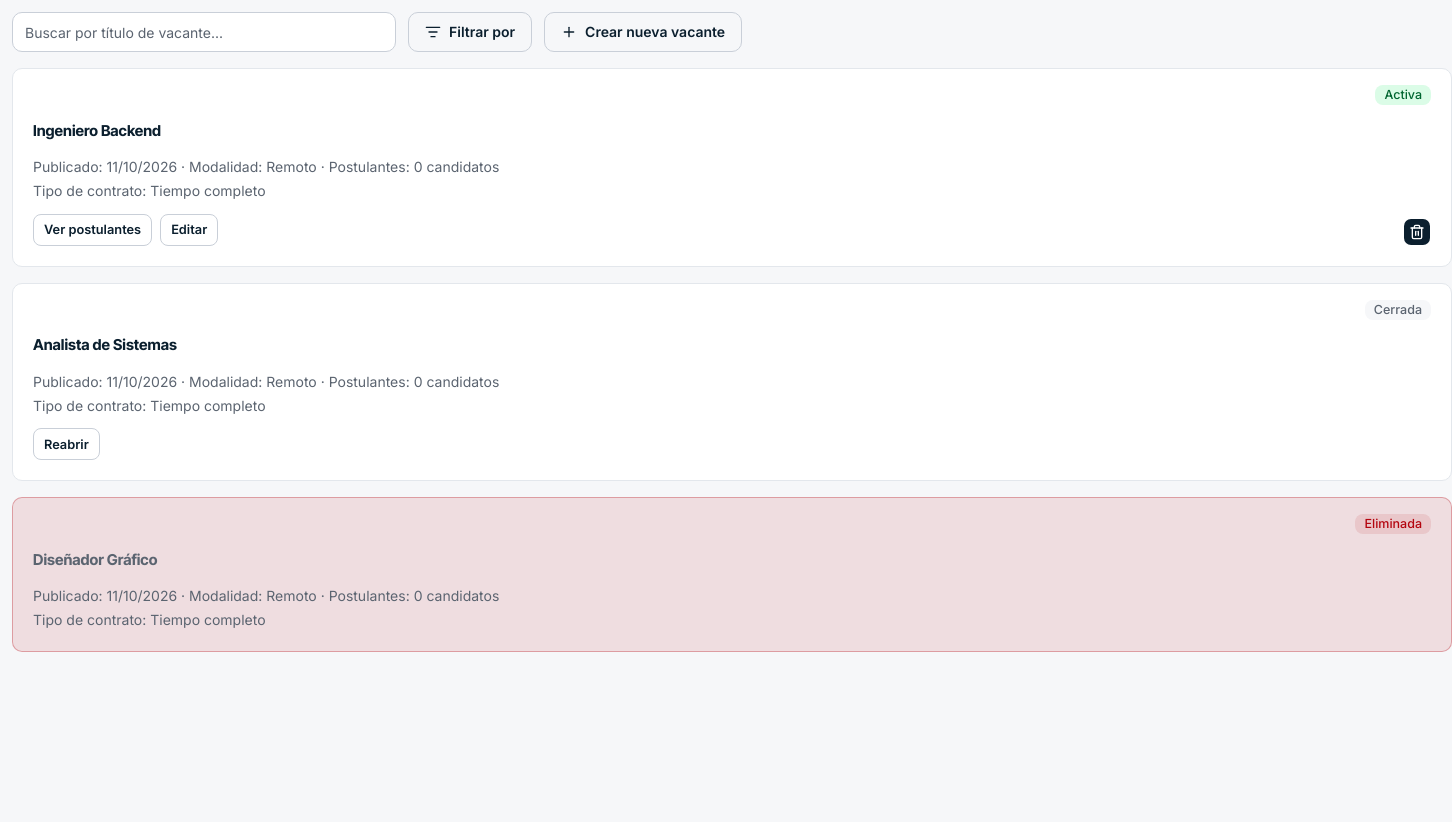
Test: VacancyList en modo historial › filtra en tiempo real sin distinguir mayúsculas ni tildes
Expected: the button "Ingeniero Backend" is shown, [33,109,161,153]
In the search field labelled "Buscar por título de vacante": point(204, 32) [12,12,396,52], type "DISENADOR"
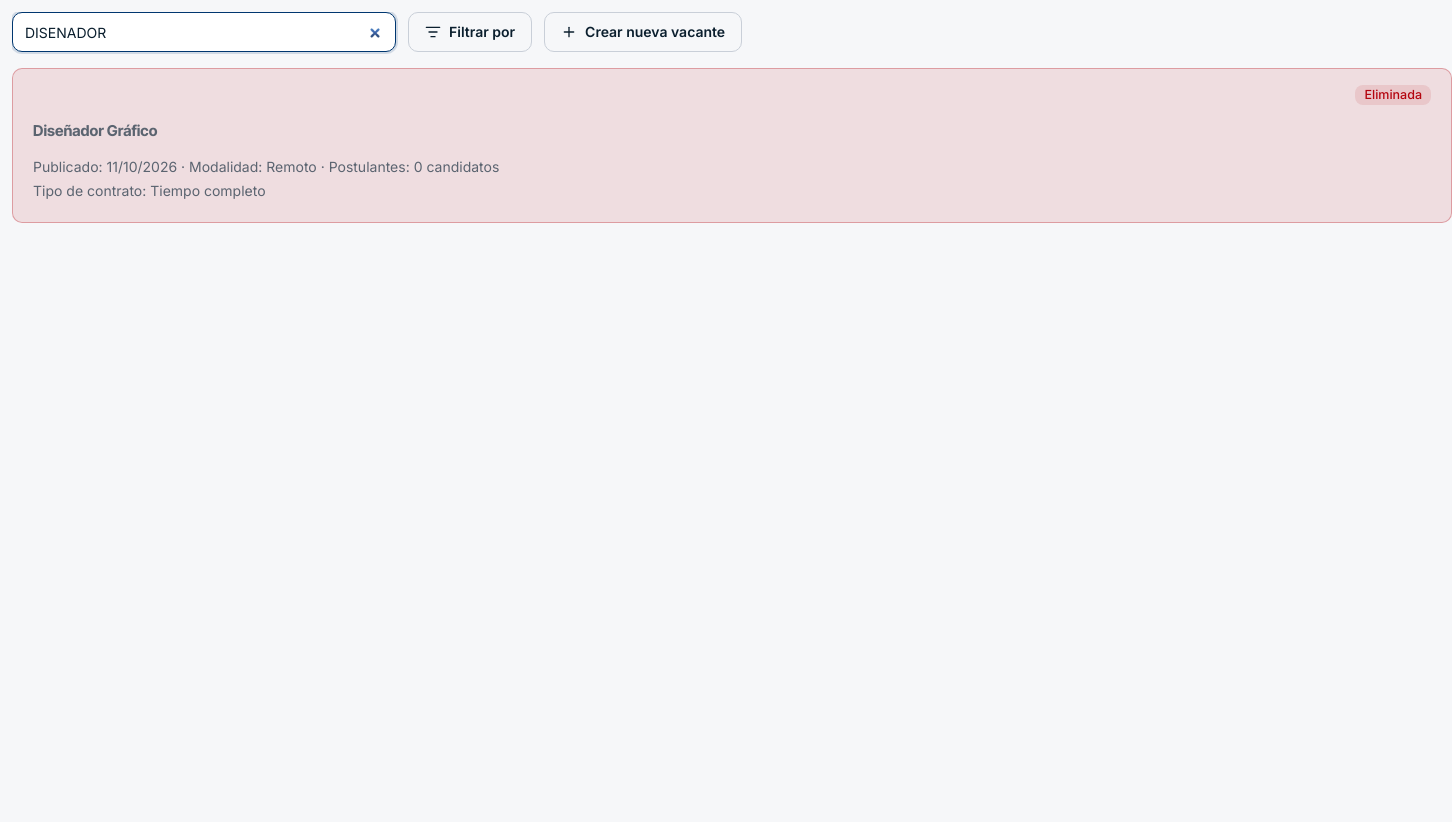
Expected: the button "Diseñador Gráfico" is shown, [33,109,157,153]
Expected: the button "Ingeniero Backend" is gone
